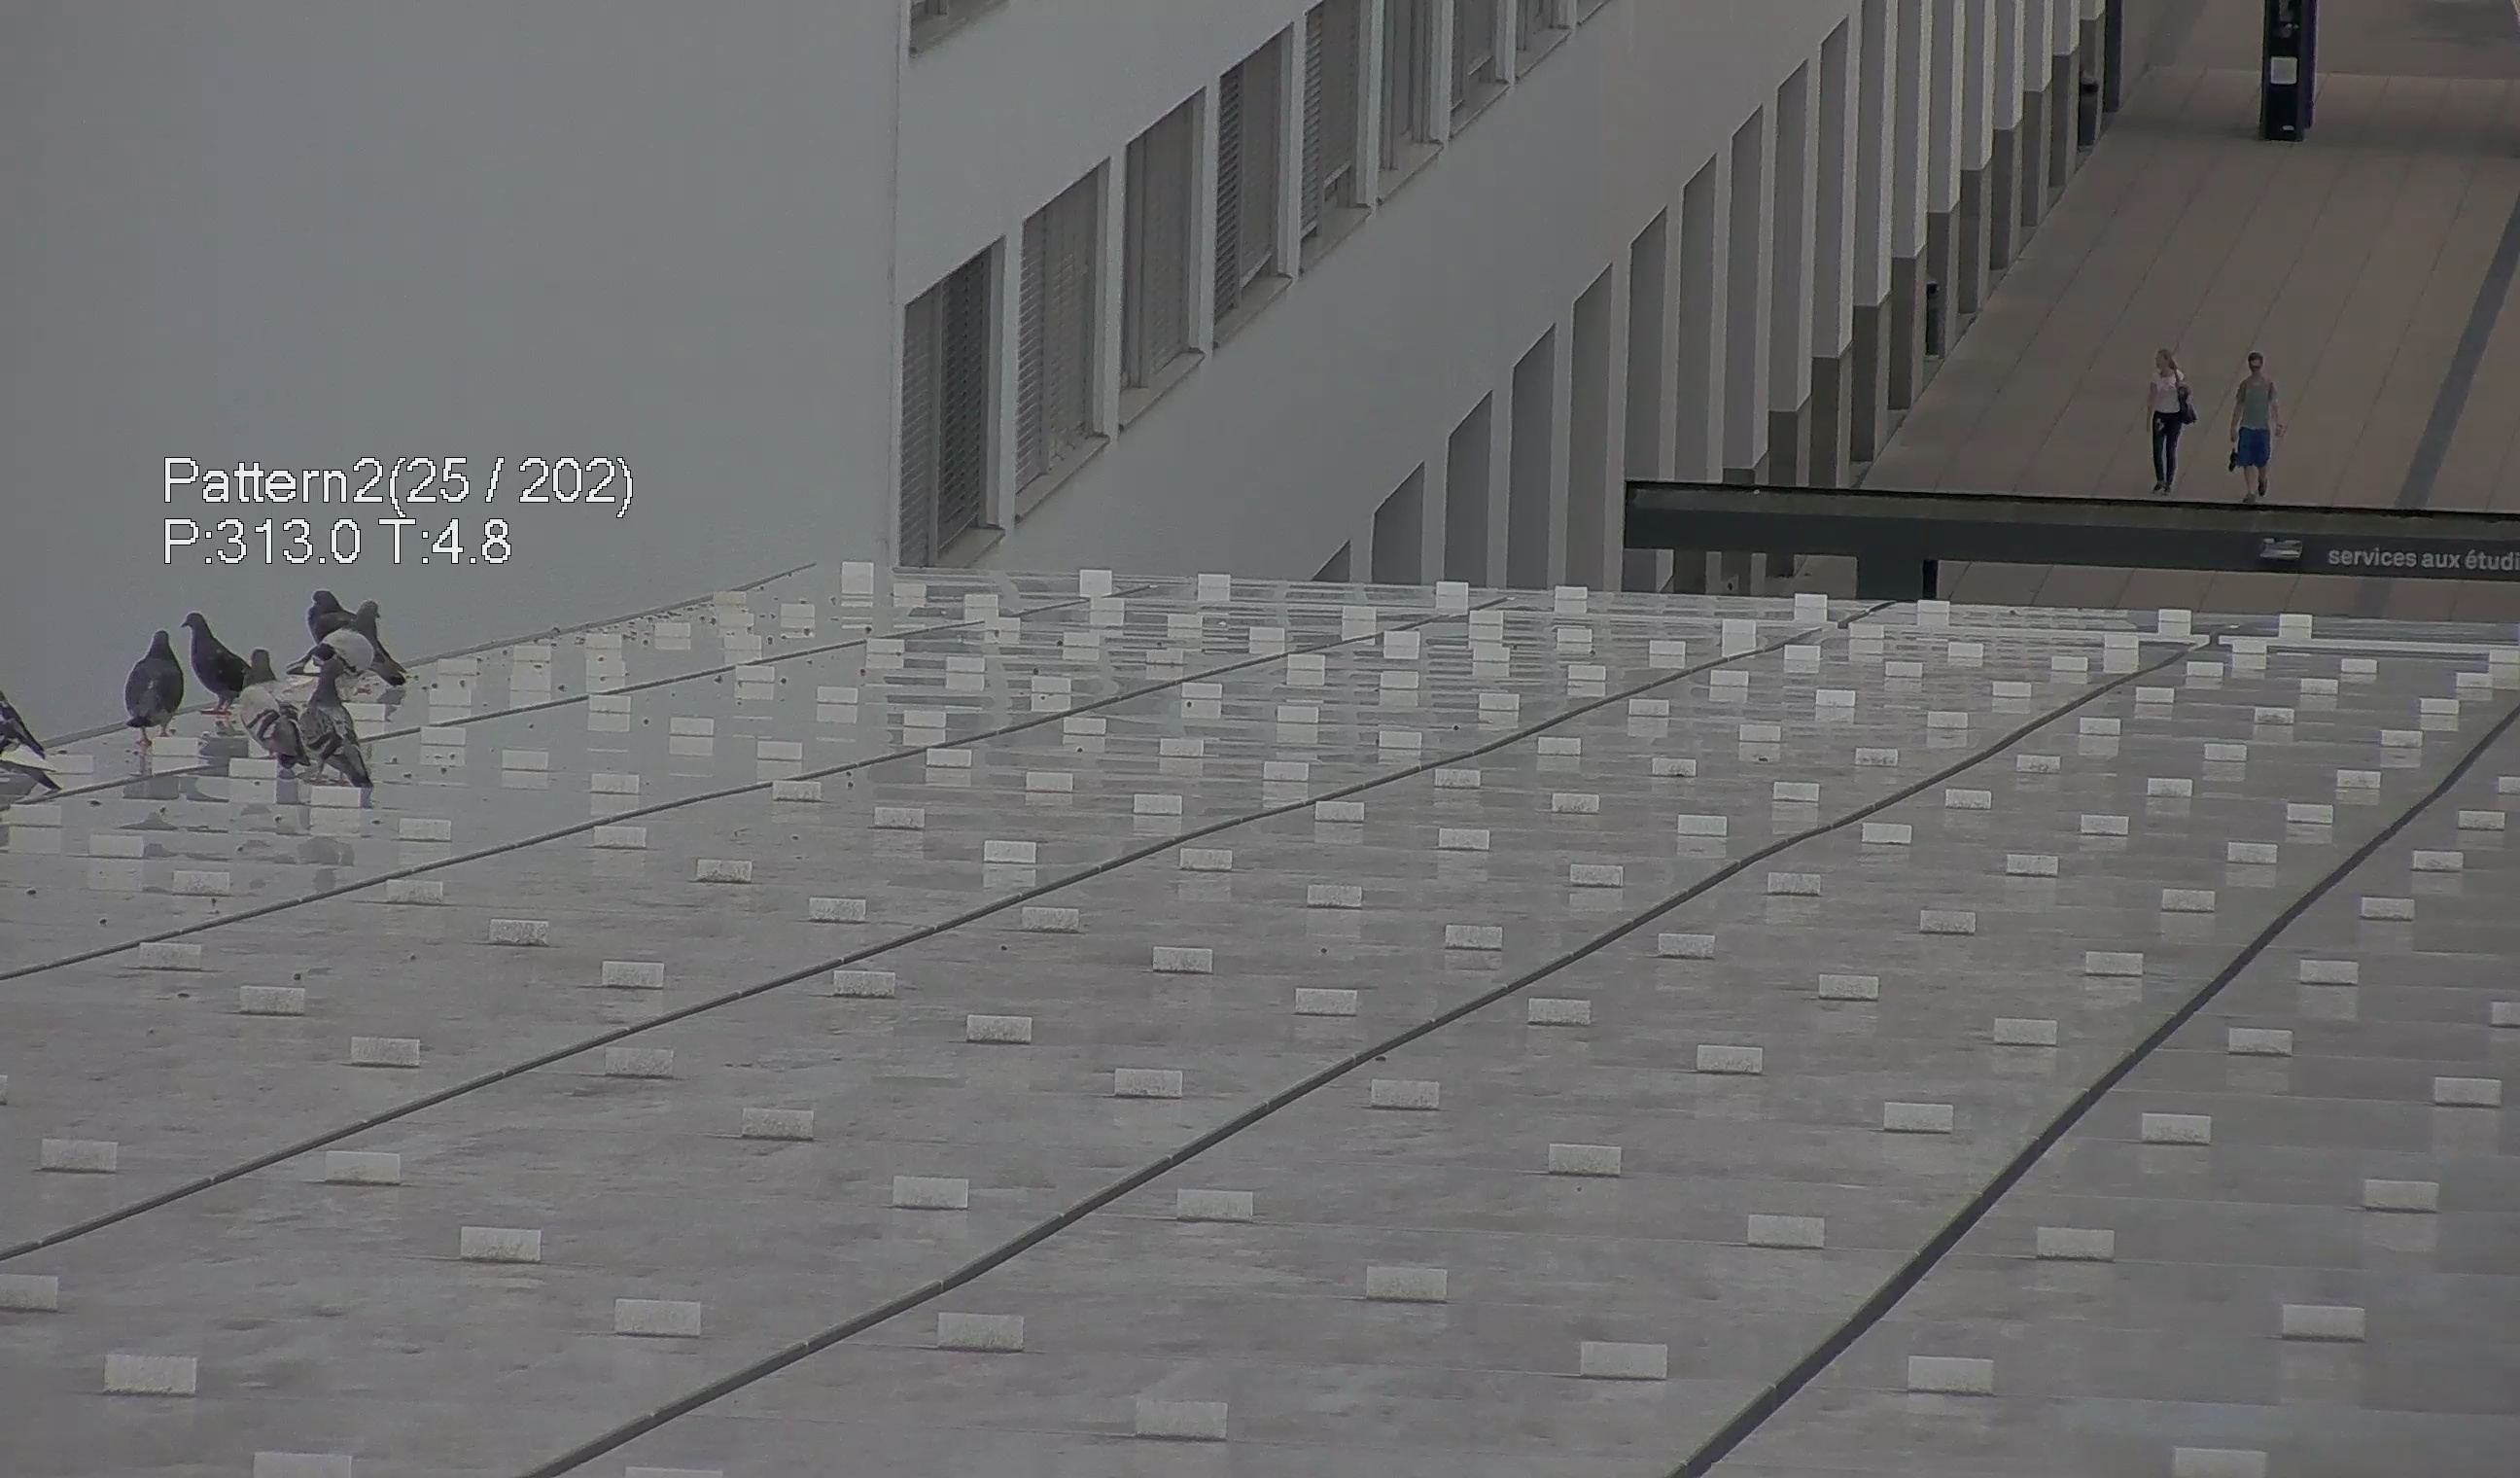Pigeon: (283, 586, 408, 704), (155, 607, 264, 723), (290, 655, 378, 792), (241, 648, 313, 806), (104, 626, 185, 746), (4, 672, 47, 790)
